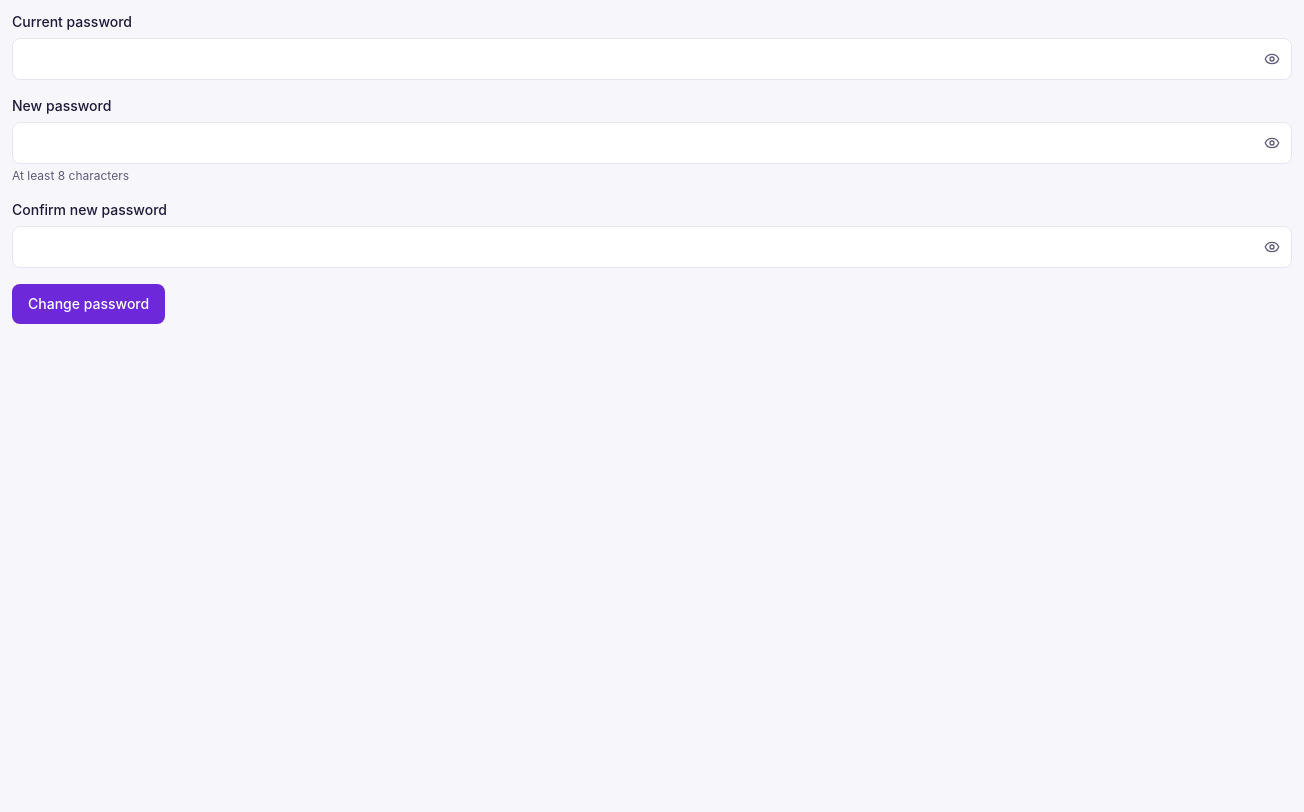
Test case: ChangePasswordForm › changes the password after verifying the current one
Type "oldpass12" into the password field labelled "Current password" at coordinates (652, 59), box [12,38,1292,80]
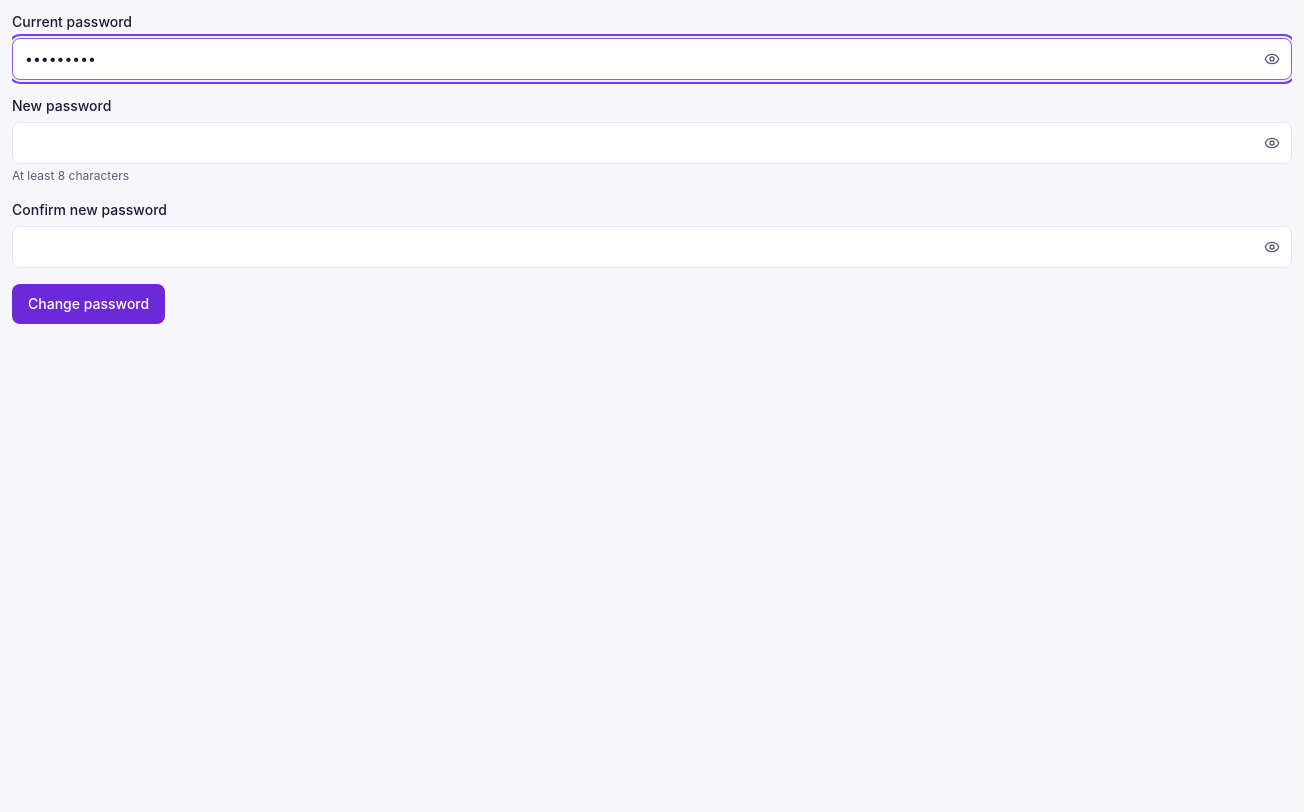
Type "newpass123" into the password field labelled "New password At least 8 characters" at coordinates (652, 143), box [12,122,1292,164]
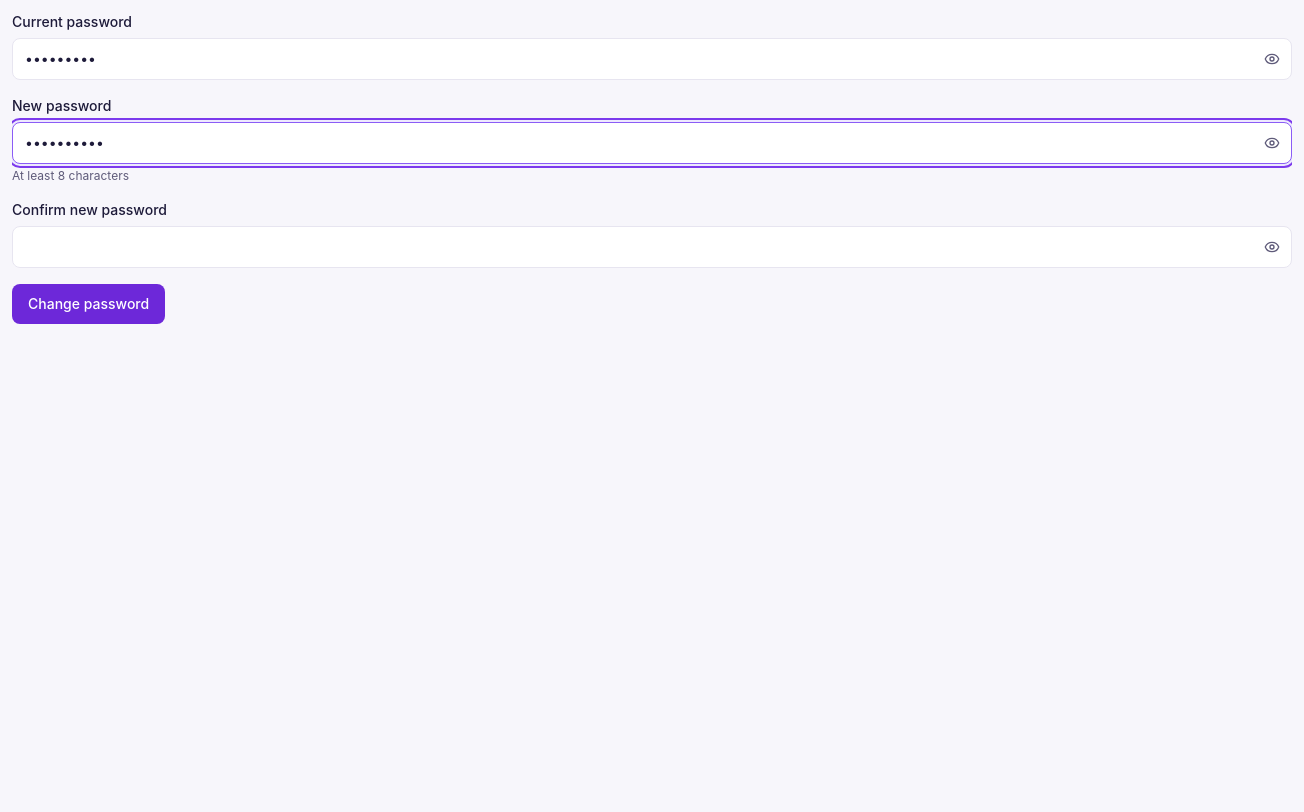
Type "newpass123" into the password field labelled "Confirm new password" at coordinates (652, 247), box [12,226,1292,268]
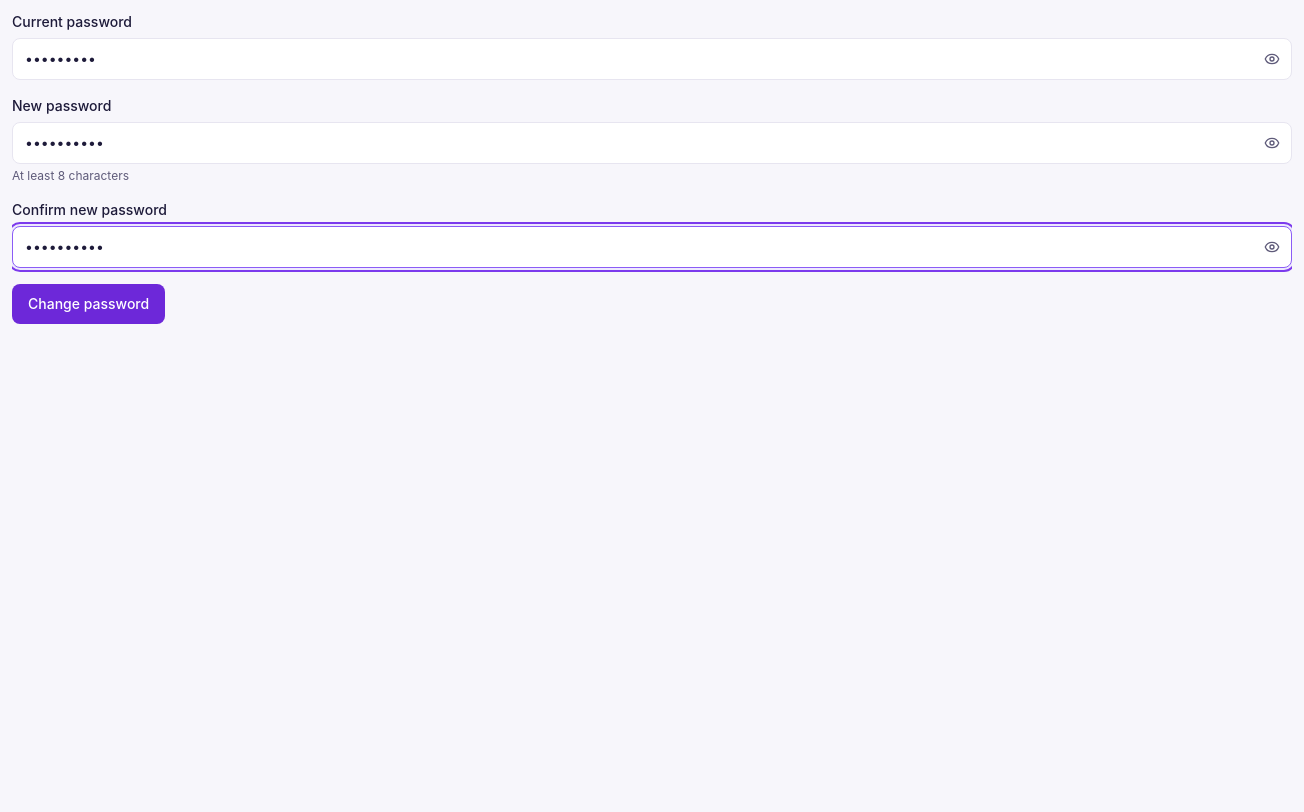
Click the button "Change password" at coordinates (89, 304), box [12,284,165,324]
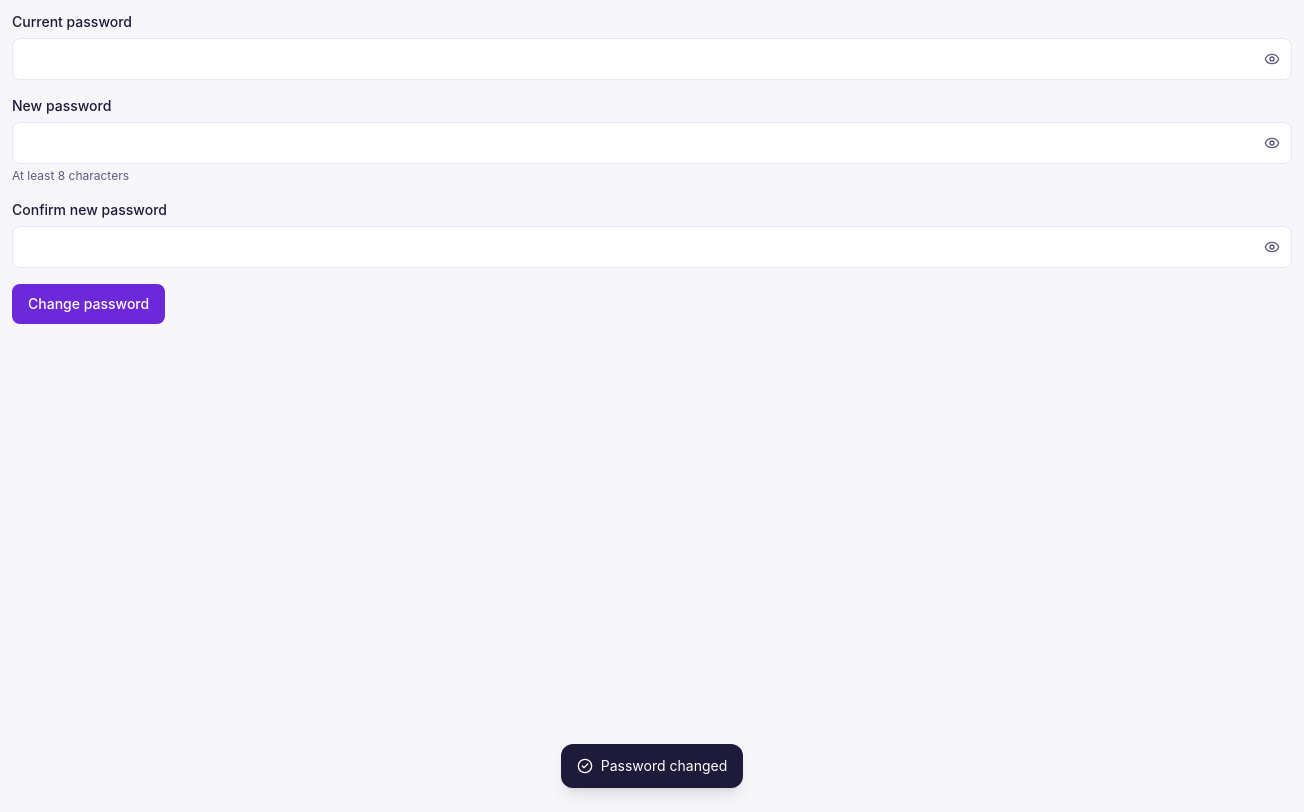
Check: the text "Password changed" is shown, box [601,756,727,776]
